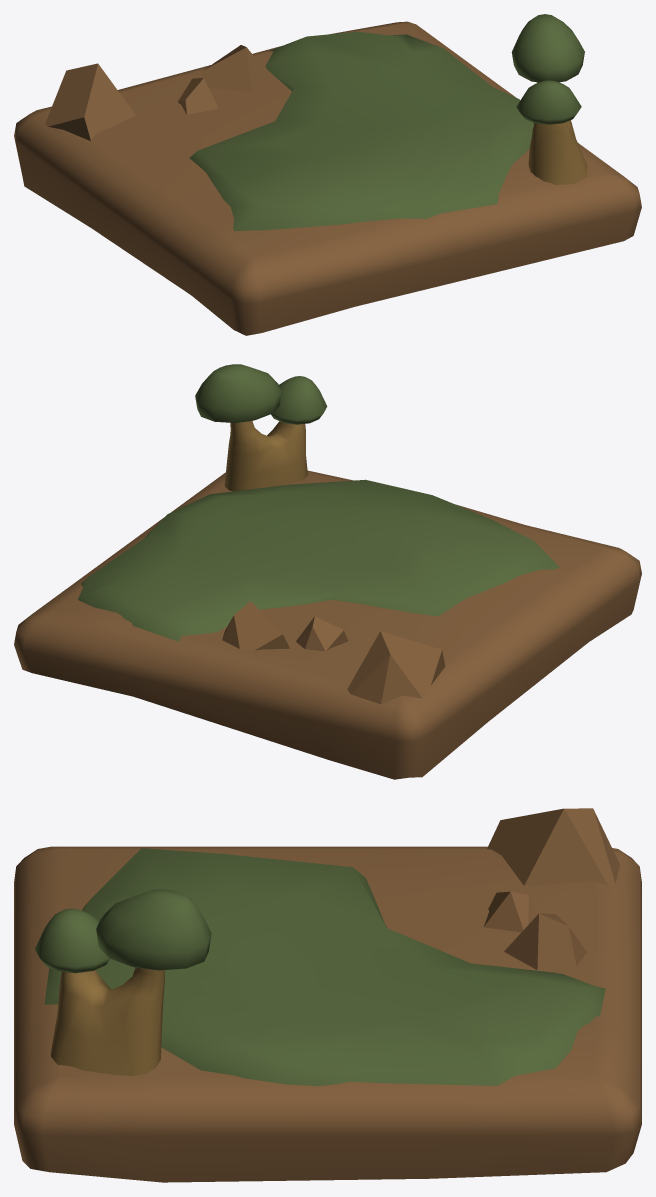
Rendered from Tile_6.fbx.
3 renders of one model, top to bottom at view 1: azimuth 30°, elevation 25°; view 2: azimuth 150°, elevation 25°; view 3: azimuth 270°, elevation 25°, orthographic. The views are drawn at different scales.
Parts seen in each view (by area): view 1: Tile_6; view 2: Tile_6; view 3: Tile_6.
Boxes of the visible parts, <box> form: Tile_6: <box>14,14,641,335</box>; Tile_6: <box>14,364,641,779</box>; Tile_6: <box>14,808,641,1182</box>.
Bounding box in the file's own units: 1 × 0.472 × 1.
